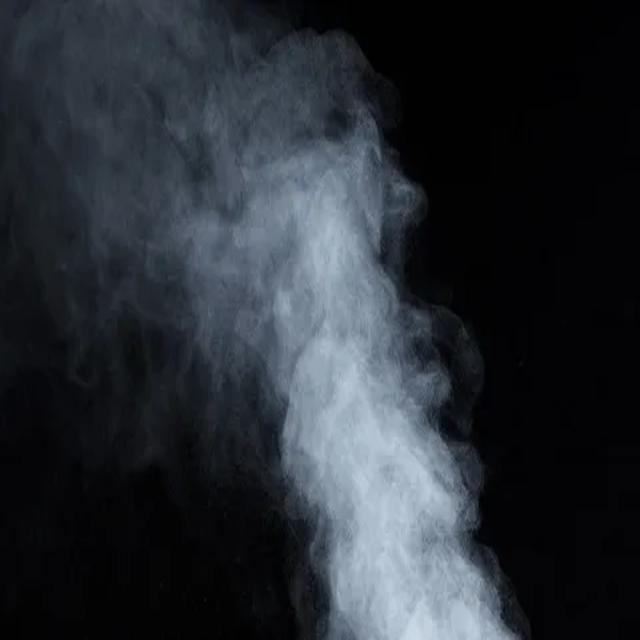Smoke: (1, 4, 525, 640)
